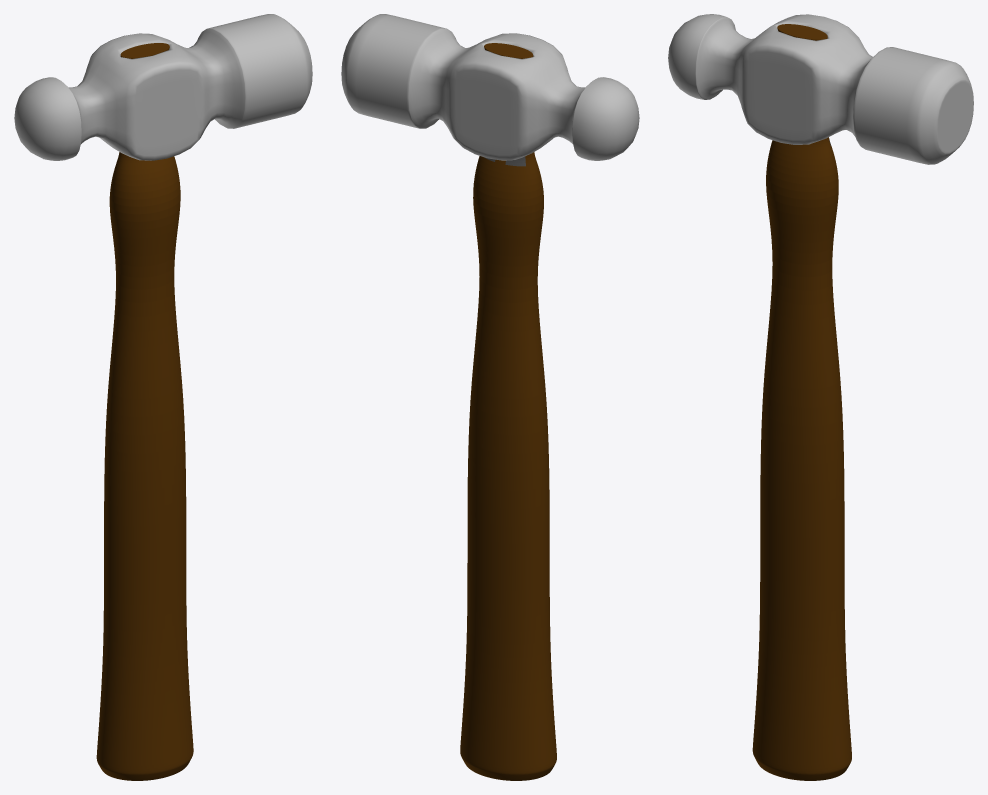
Rendered from hammer.fbx.
3 renders of one model, left to right at view 1: azimuth 30°, elevation 25°; view 2: azimuth 150°, elevation 25°; view 3: azimuth 330°, elevation 25°, orthographic. The views are drawn at different scales.
Visible parts, largest first — view 1: Cylinder, Cube.001; view 2: Cylinder, Cube.001; view 3: Cylinder, Cube.001.
Boxes of the visible parts, x1=… form: Cylinder: x1=96, y1=43, x2=193, y2=780; Cube.001: x1=14, y1=14, x2=312, y2=160; Cylinder: x1=460, y1=43, x2=556, y2=780; Cube.001: x1=341, y1=14, x2=639, y2=160; Cylinder: x1=752, y1=24, x2=851, y2=780; Cube.001: x1=668, y1=14, x2=973, y2=164.
Size of the model in its own units: 170 by 425 by 54.62.
